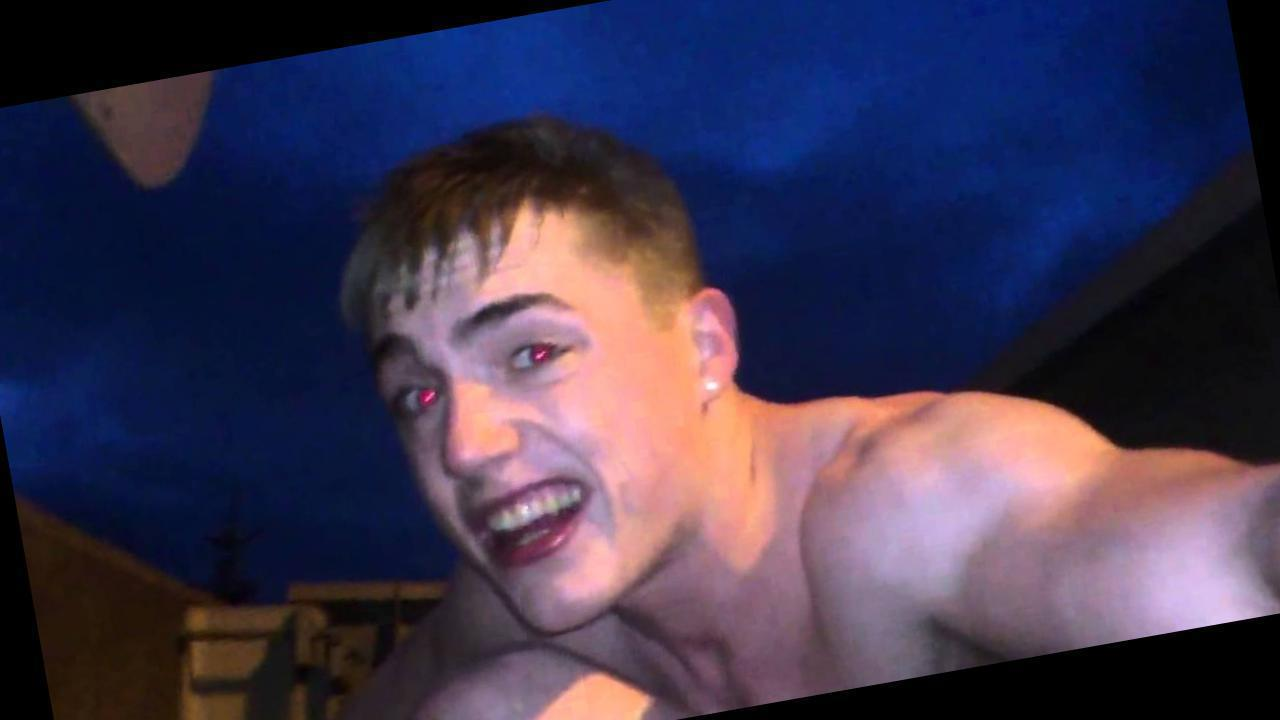Drunk: (379, 239, 667, 615)
